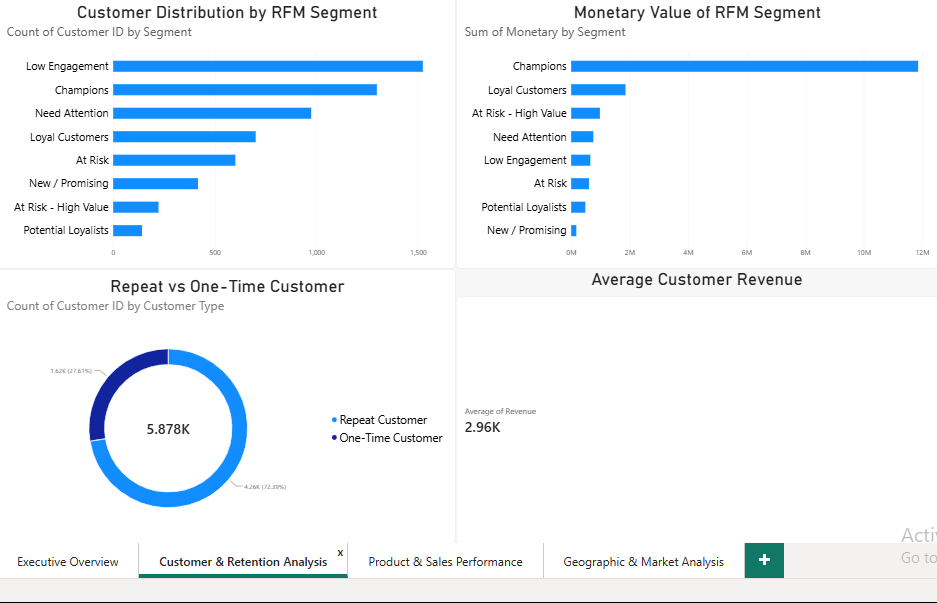

The dashboard page shown, as its layout file describes it:
{"tool":"powerbi","page":{"name":"Customer & Retention Analysis","canvas":[1920,1080],"ordinal":1},"visuals":[{"type":"clusteredBarChart","title":"Customer Distribution by RFM Segment","fields":{"Category":["rfm_customer_segments.Segment"],"Y":["CountNonNull(rfm_customer_segments.Customer ID)"]},"box":[10.1,0,902,539.2],"z":0},{"type":"clusteredBarChart","title":"Monetary Value of RFM Segment","fields":{"Category":["rfm_customer_segments.Segment"],"Y":["Sum(rfm_customer_segments.Monetary)"]},"box":[912.1,0,949.9,539.2],"z":1000},{"type":"donutChart","title":"Repeat vs One-Time Customer","fields":{"Category":["customer_summary.Customer Type"],"Y":["CountNonNull(customer_summary.Customer ID)"]},"box":[10.1,539.2,902,541.7],"z":2000},{"type":"cardVisual","title":"Average Customer Revenue","fields":{"Data":["Avg(customer_summary.Revenue)"]},"box":[912.1,539.2,949.9,541.7],"z":3000}]}

Visuals, with their boxes on the page's 1920x1080 design canvas (x1, y1, x2, y2). These are canvas units, not pixel positions in the 937x603 screenshot, which may show the page scaled, cropped or inside an application window:
"Customer Distribution by RFM Segment" clusteredBarChart: <box>10,0,912,539</box>
"Monetary Value of RFM Segment" clusteredBarChart: <box>912,0,1862,539</box>
"Repeat vs One-Time Customer" donutChart: <box>10,539,912,1081</box>
"Average Customer Revenue" cardVisual: <box>912,539,1862,1081</box>
